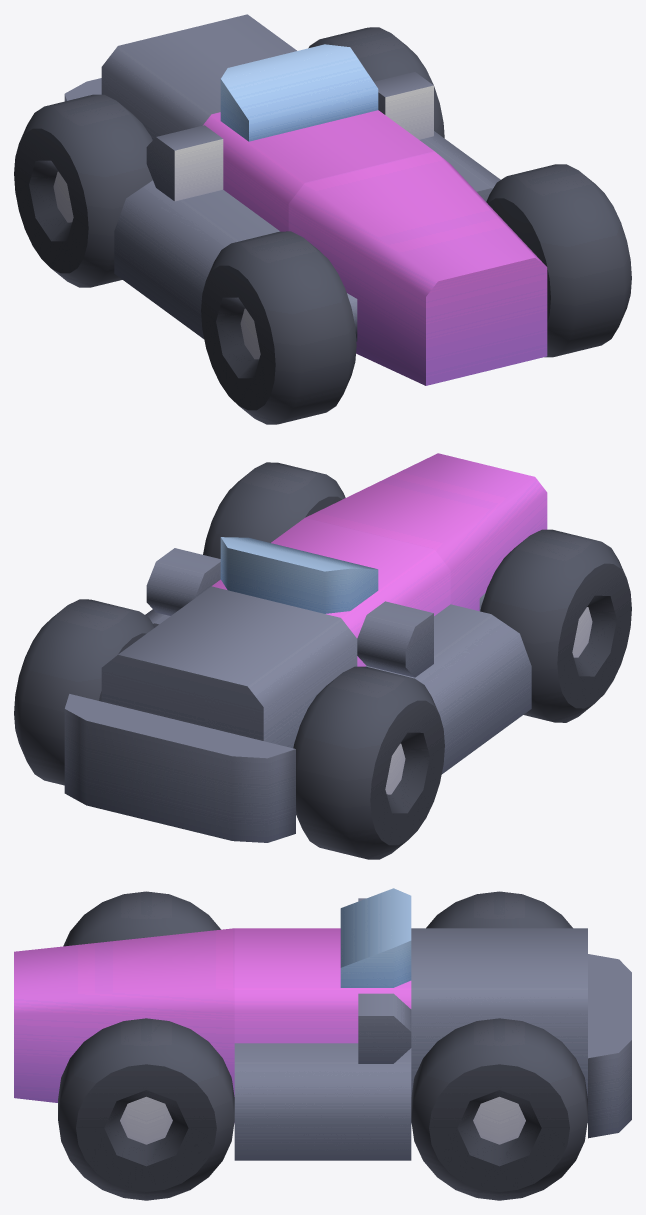
The model's file is car_indigo.glb.
The picture shows the model from 3 angles, top to bottom: view 1: azimuth 30°, elevation 25°; view 2: azimuth 150°, elevation 25°; view 3: azimuth 270°, elevation 25°; orthographic projection. The views are drawn at different scales.
Visible parts, largest first — view 1: vehicle-vintage-racer, wheel-bl, wheel-fl, wheel-br, wheel-fr; view 2: vehicle-vintage-racer, wheel-fl, wheel-bl, wheel-fr, wheel-br; view 3: vehicle-vintage-racer, wheel-br, wheel-fr, wheel-bl, wheel-fl.
Boxes of the visible parts, x1=… form: vehicle-vintage-racer: x1=64, y1=14, x2=547, y2=385; wheel-bl: x1=201, y1=231, x2=356, y2=424; wheel-fl: x1=14, y1=94, x2=152, y2=287; wheel-br: x1=486, y1=164, x2=631, y2=357; wheel-fr: x1=308, y1=27, x2=444, y2=138; vehicle-vintage-racer: x1=64, y1=453, x2=547, y2=842; wheel-fl: x1=293, y1=666, x2=444, y2=859; wheel-bl: x1=480, y1=529, x2=631, y2=722; wheel-fr: x1=14, y1=599, x2=154, y2=785; wheel-br: x1=203, y1=462, x2=345, y2=558; vehicle-vintage-racer: x1=14, y1=888, x2=631, y2=1160; wheel-br: x1=58, y1=1018, x2=234, y2=1200; wheel-fr: x1=411, y1=1018, x2=587, y2=1200; wheel-bl: x1=63, y1=891, x2=220, y2=946; wheel-fl: x1=426, y1=891, x2=572, y2=928.
Bounding box in the file's own units: 0.55 × 0.325 × 0.875.
1 material, 1 textured.
